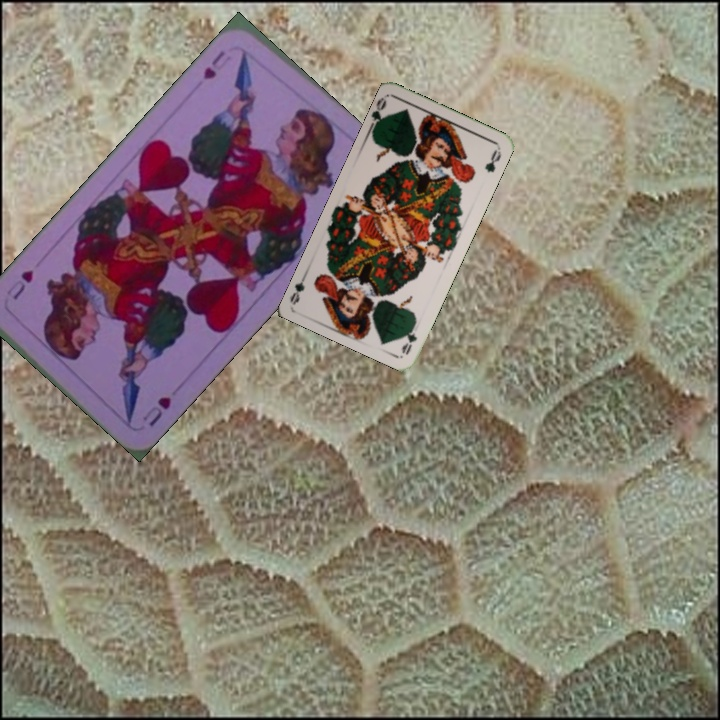GO: (365, 94, 392, 133), (397, 316, 420, 357)
HU: (138, 392, 174, 429), (199, 46, 234, 82)
